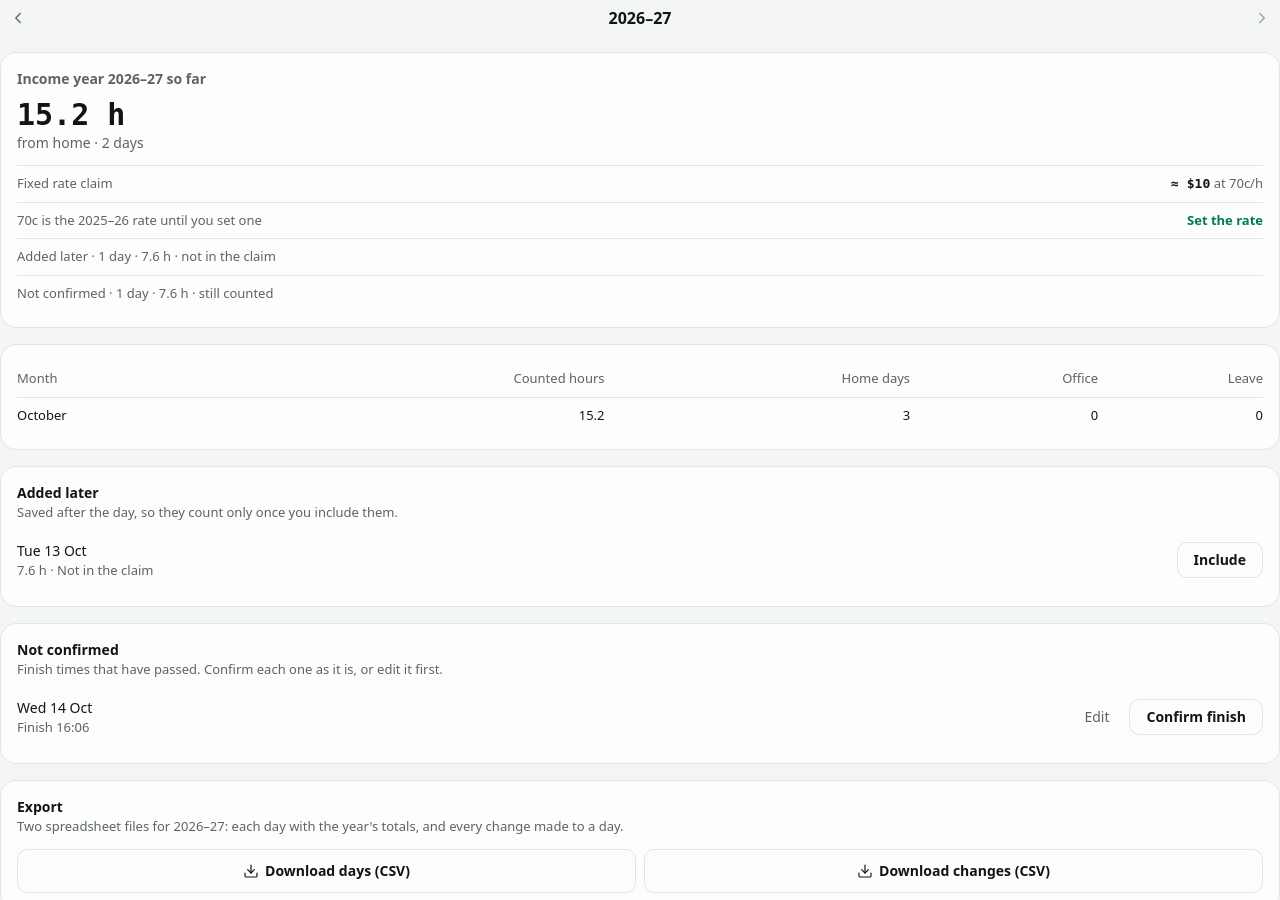
Test case: YearTab › heads the card of a past year without "so far"
Expected: the heading "Income year 2026–27 so far" is shown, [17,69,206,88]
Click the button named "Previous income year". click: x=18, y=18
box: [0,0,36,36]
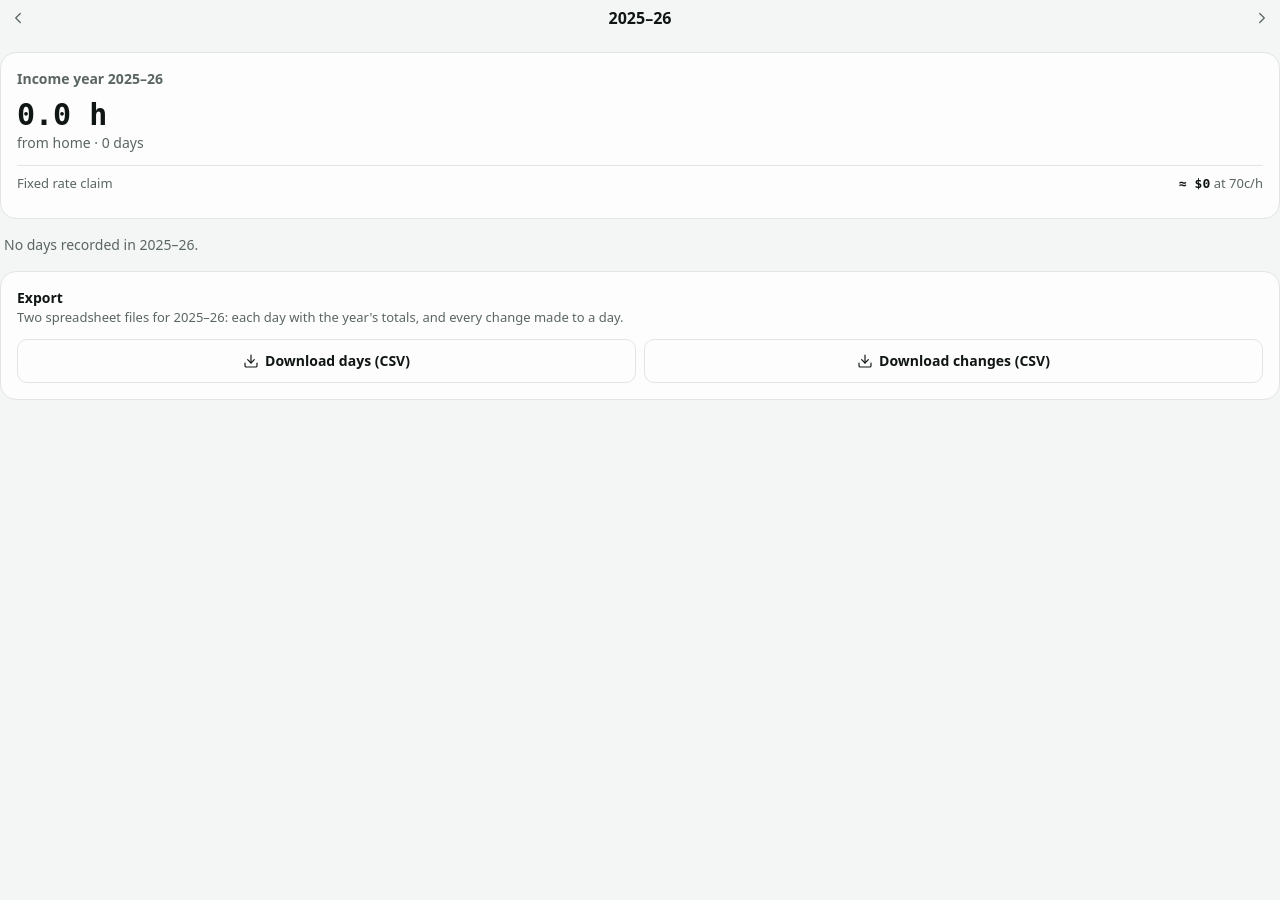
Expected: the heading "Income year 2025–26" is shown, [17,69,163,88]
